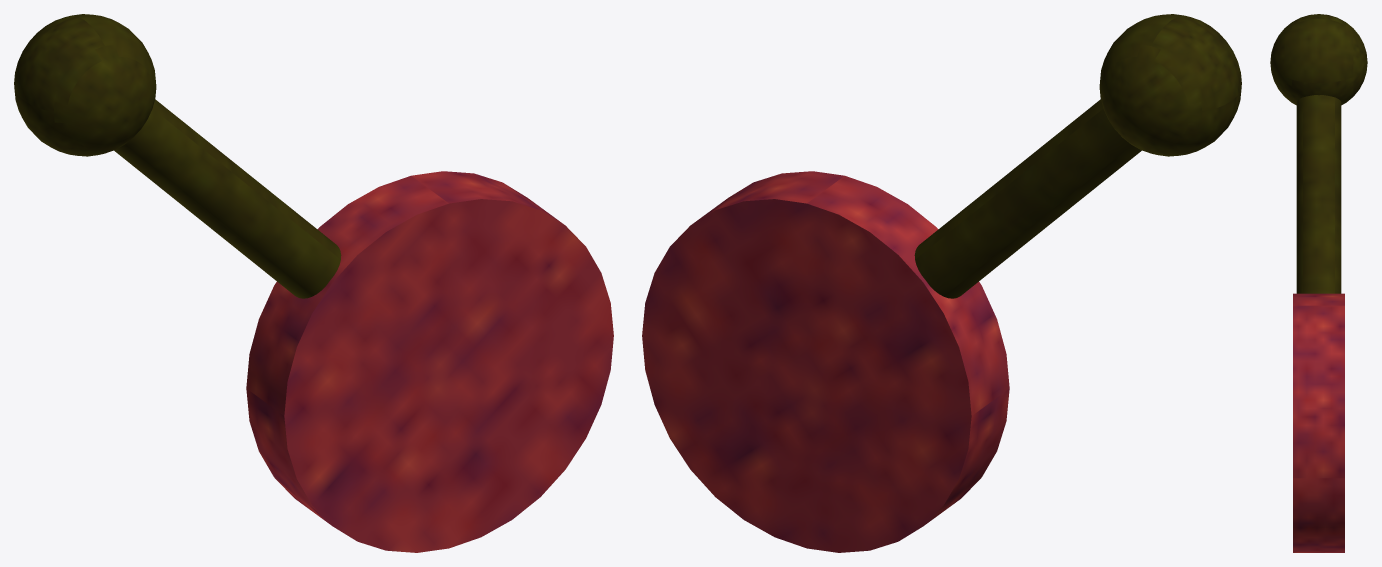
File: Lever2.obj
The picture shows the model from 3 angles, left to right: view 1: azimuth 30°, elevation 25°; view 2: azimuth 150°, elevation 25°; view 3: azimuth 270°, elevation 25°; orthographic projection. The views are drawn at different scales.
Visible parts, largest first — view 1: Lever1_Cylinder.002; view 2: Lever1_Cylinder.002; view 3: Lever1_Cylinder.002.
Part boxes in pixels (<box>): Lever1_Cylinder.002: <box>14,14,613,552</box>; Lever1_Cylinder.002: <box>642,14,1241,552</box>; Lever1_Cylinder.002: <box>1270,14,1367,552</box>.
Bounding box in the file's own units: 0.2438 × 0.2438 × 0.0527.
